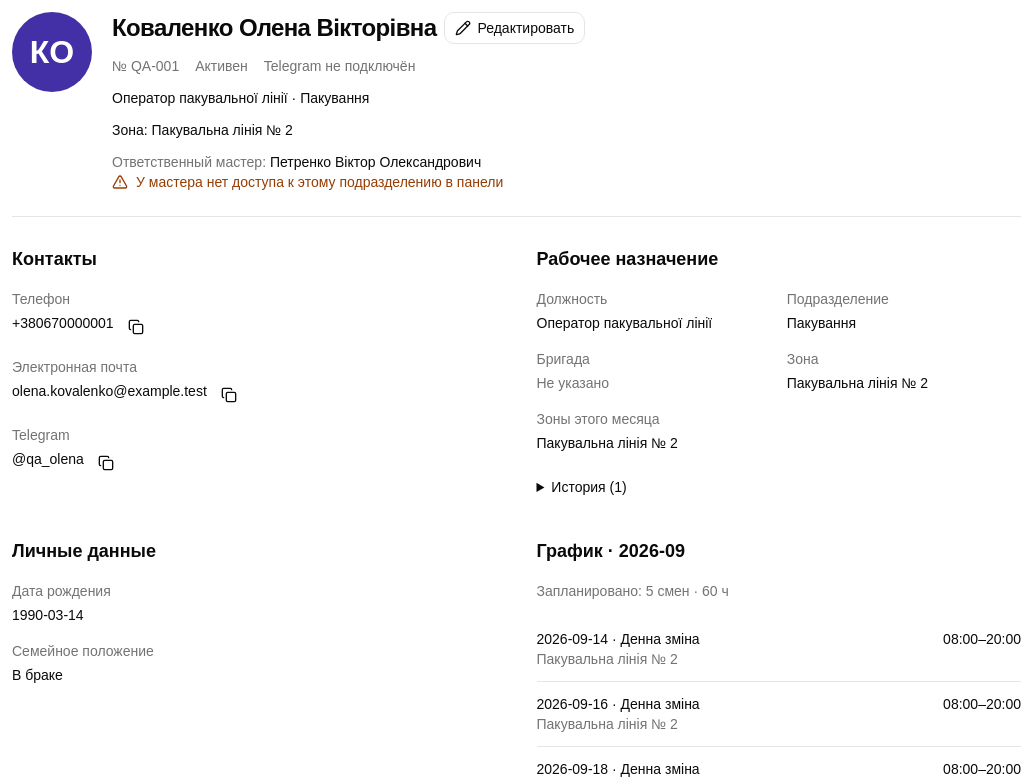
employee profile journeys › opens all editable personal fields together and disables unchanged saves
Expected: the field labelled "ФИО" is not shown
Click the button "Редактировать" at x=515, y=28, box [444,12,585,44]
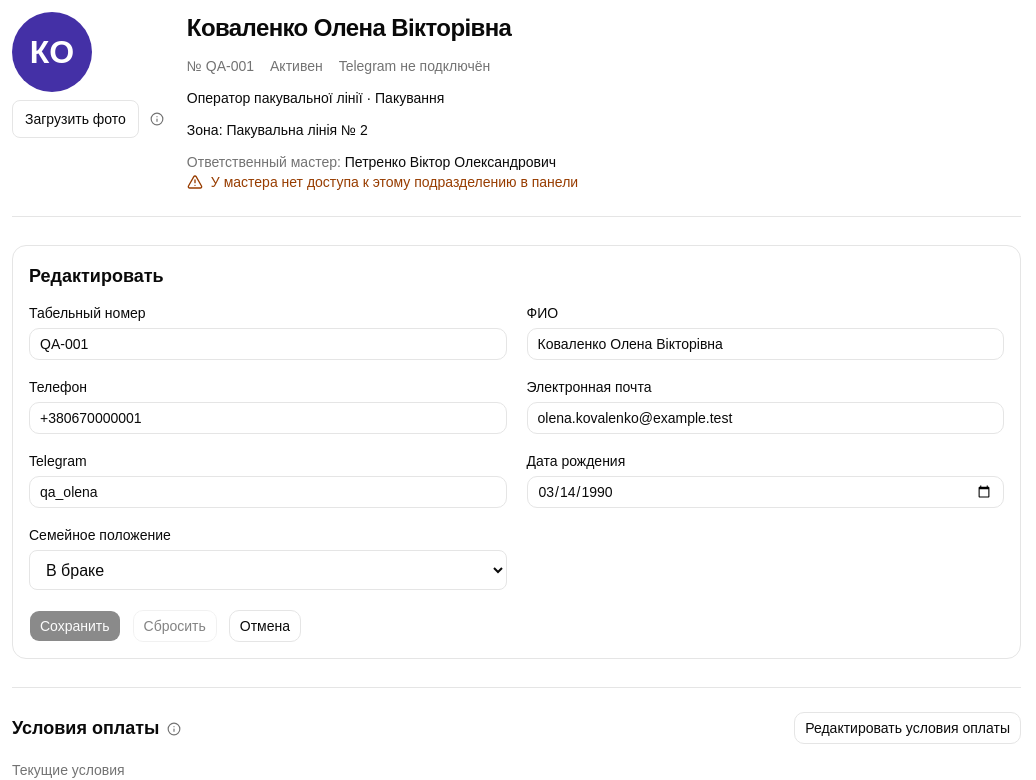
Now the field labelled "ФИО" is shown
Now the field labelled "Электронная почта" is shown, box [526,402,1004,434]
Now the date field labelled "Дата рождения" is shown, box [526,476,1004,508]
Replace the text in the field labelled "ФИО" with "Changed name" at x=765, y=344, box [526,328,1004,360]
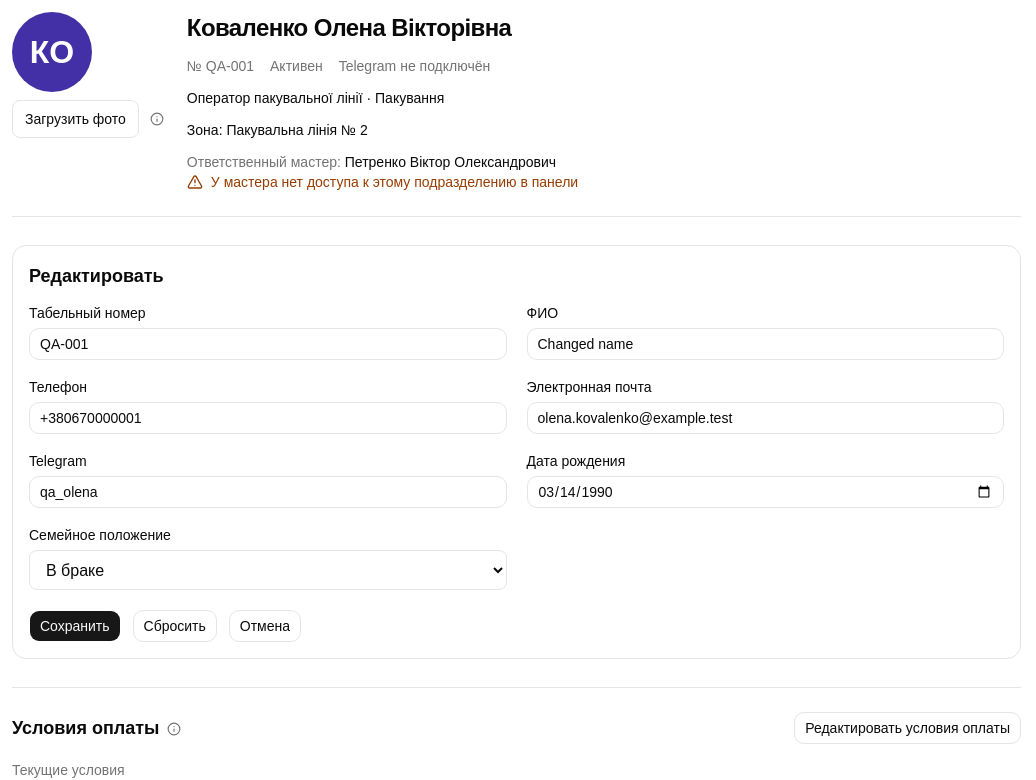
Now the button "Сохранить" is enabled, box [29,610,121,642]
Replace the text in the field labelled "ФИО" with "Коваленко Олена Вікторівна" at x=765, y=344, box [526,328,1004,360]
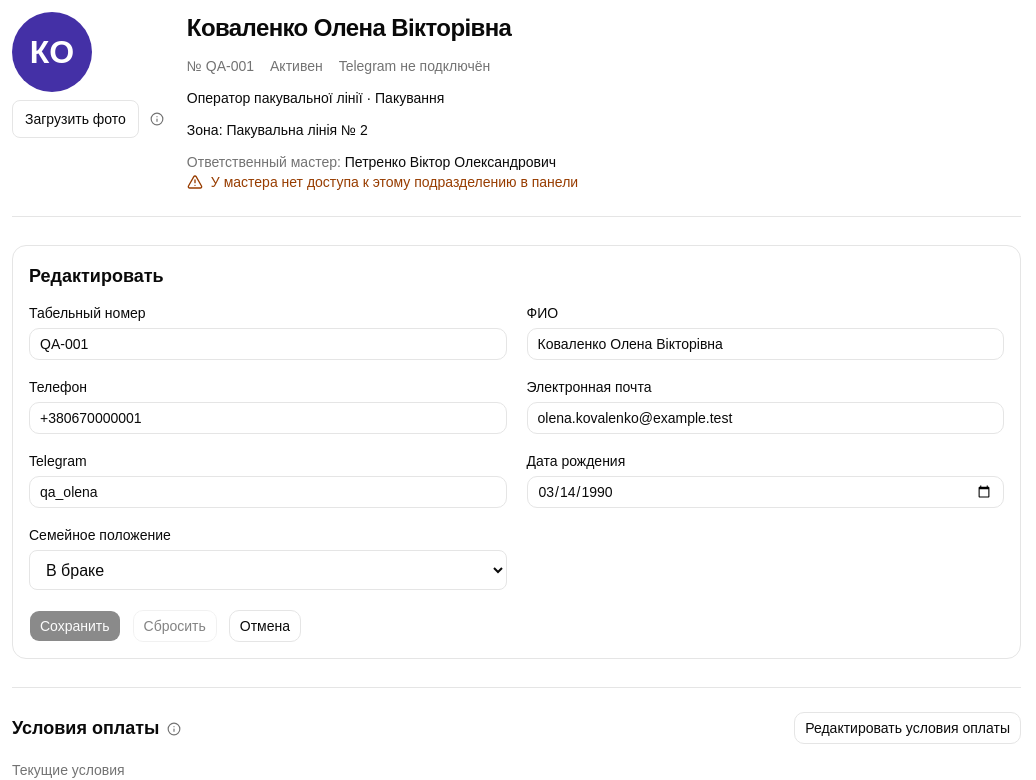
Now the button "Сохранить" is disabled, box [29,610,121,642]
